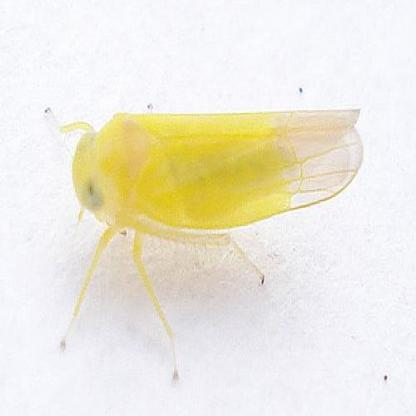green-leafhopper: (68, 106, 362, 242)
